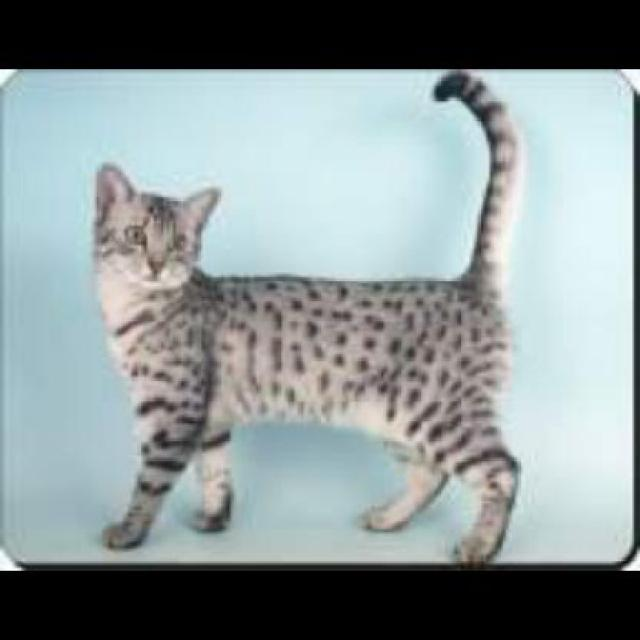unauthorized: (89, 69, 523, 566)
